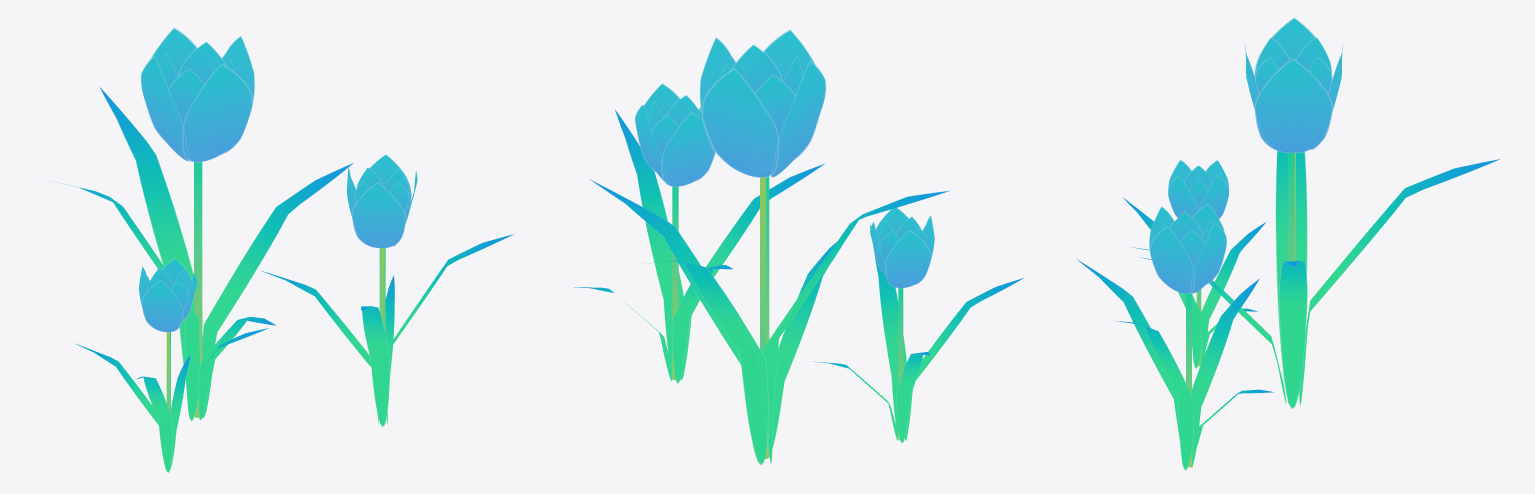
File: Flowers_n02_19.glb
3 views of the same model, side by side, from view 1: azimuth 30°, elevation 25°; view 2: azimuth 150°, elevation 25°; view 3: azimuth 270°, elevation 25° (orthographic). The views are drawn at different scales.
Parts seen in each view (by area): view 1: polySurface300; view 2: polySurface300; view 3: polySurface300.
Boxes of the visible parts, <box> form: polySurface300: <box>51,27,514,472</box>; polySurface300: <box>573,29,1024,465</box>; polySurface300: <box>1076,17,1500,470</box>.
Size of the model in its own units: 0.4685 by 0.4164 by 0.4458.
Materials: 1 (1 with a texture image).
